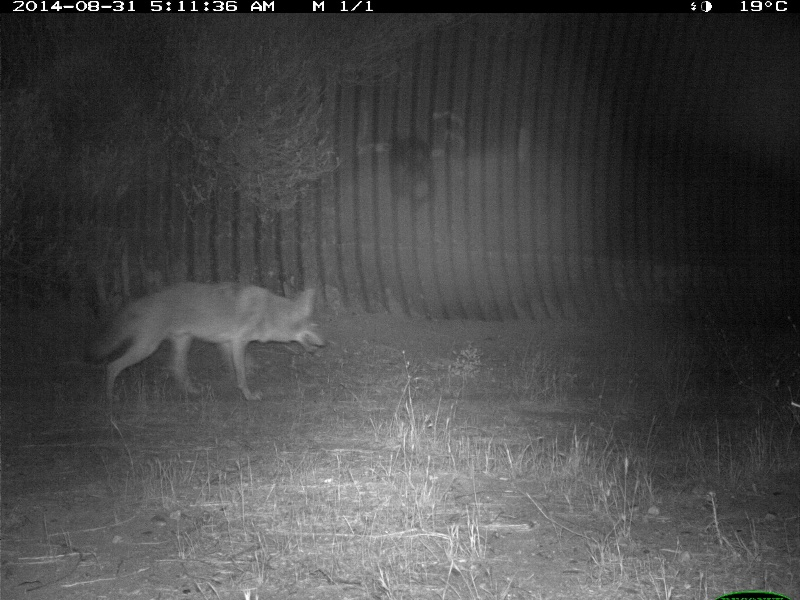coyote: (92, 279, 325, 403)
